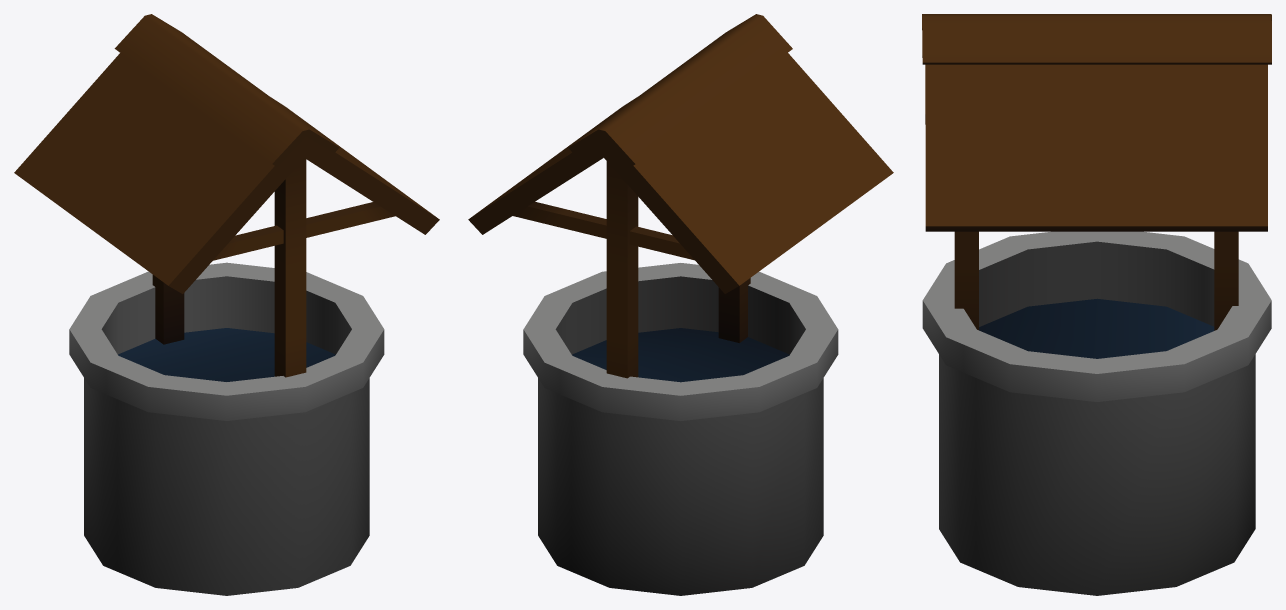
The model's file is Well_Filled.fbx.
3 renders of one model, left to right at view 1: azimuth 30°, elevation 25°; view 2: azimuth 150°, elevation 25°; view 3: azimuth 270°, elevation 25°, orthographic. The views are drawn at different scales.
Visible parts, largest first — view 1: Well_Filled; view 2: Well_Filled; view 3: Well_Filled.
Part boxes in pixels (x1,y1,x2,y2): Well_Filled: (14,14,439,595); Well_Filled: (468,14,893,595); Well_Filled: (922,14,1271,595).
Bounding box in the file's own units: 155 × 251 × 155.
